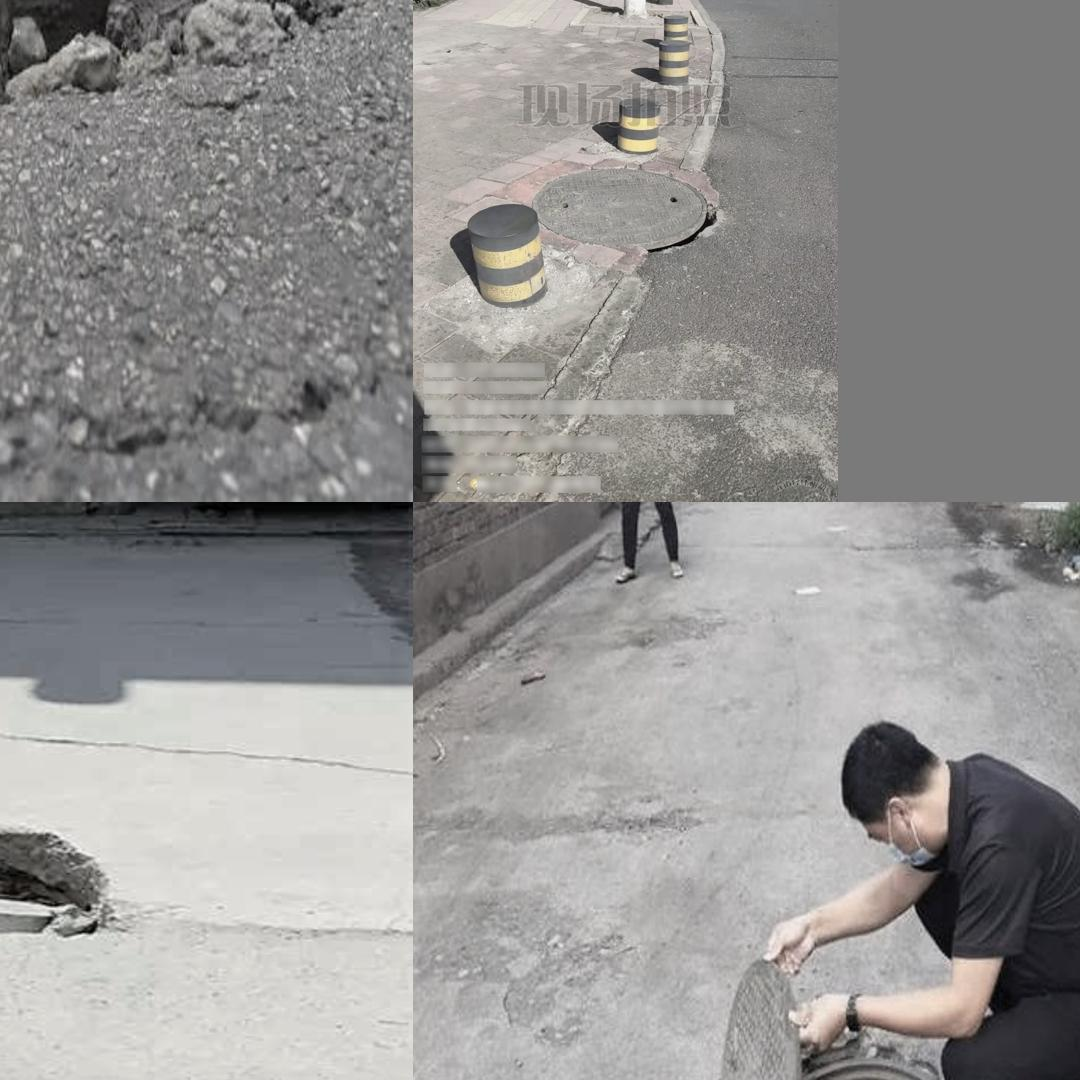circle: (0, 0, 382, 169), (652, 984, 1052, 1080), (0, 799, 156, 990), (528, 162, 721, 259)
